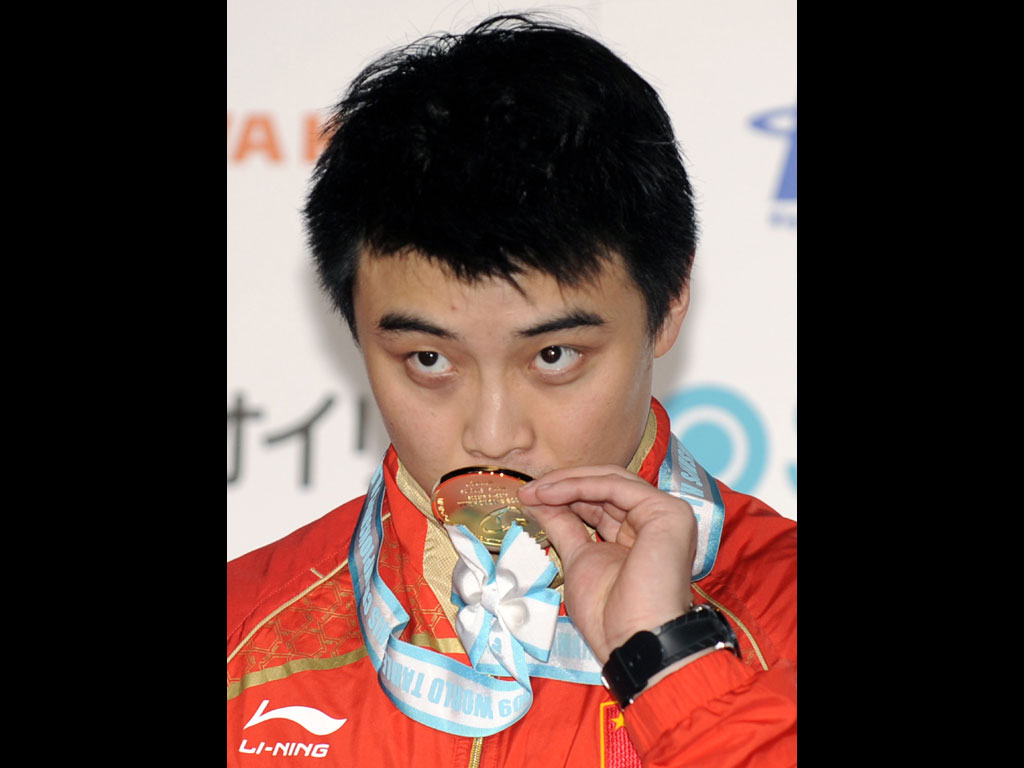face: (360, 215, 646, 537)
